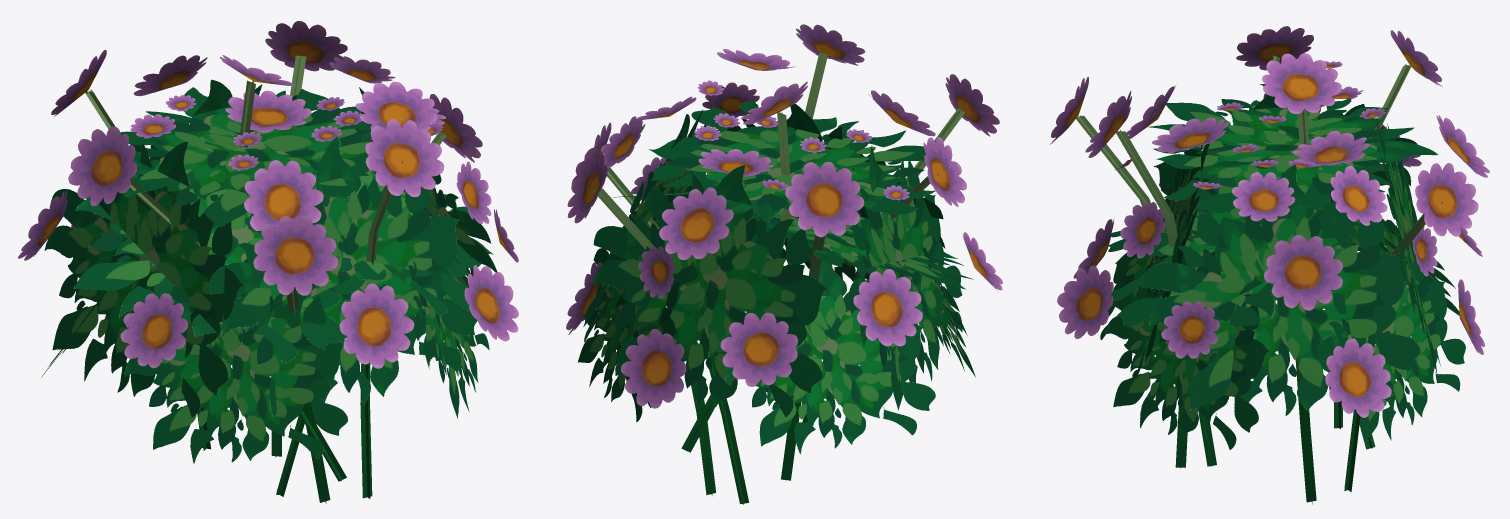
Rendered from SM_Pink_Bush.fbx.
The picture shows the model from 3 angles, left to right: view 1: azimuth 30°, elevation 25°; view 2: azimuth 150°, elevation 25°; view 3: azimuth 270°, elevation 25°; orthographic projection. The views are drawn at different scales.
Visible parts, largest first — view 1: Little_pink2; view 2: Little_pink2; view 3: Little_pink2.
Part boxes in pixels (x1,y1,x2,y2): Little_pink2: (18, 21, 518, 503); Little_pink2: (566, 24, 1002, 504); Little_pink2: (1050, 26, 1489, 504).
Bounding box in the file's own units: 118 × 121 × 116.
Materials: 1 (1 with a texture image).
